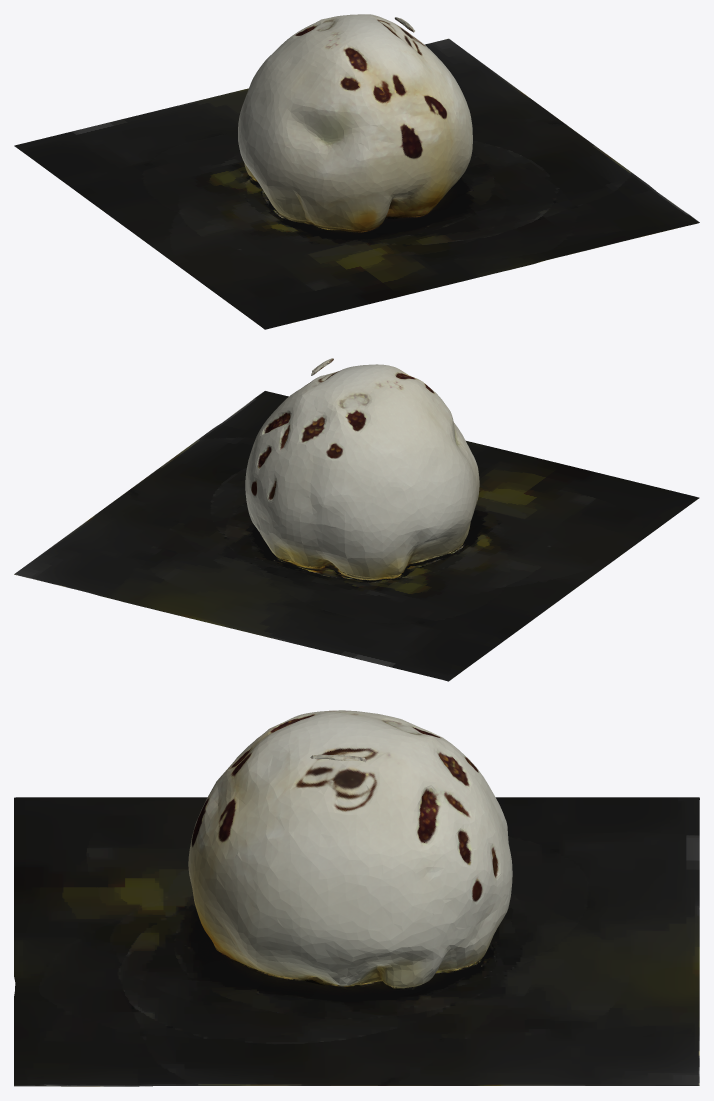
The model's file is sample_1788713900557.glb.
3 renders of one model, top to bottom at view 1: azimuth 30°, elevation 25°; view 2: azimuth 150°, elevation 25°; view 3: azimuth 270°, elevation 25°, orthographic. The views are drawn at different scales.
Visible parts, largest first — view 1: world; view 2: world; view 3: world.
Boxes of the visible parts, left/top/right/bottom form: world: left=14, top=14, right=699, bottom=329; world: left=14, top=358, right=699, bottom=681; world: left=14, top=710, right=699, bottom=1086.
Size of the model in its own units: 1 by 0.3644 by 1.
1 material, 1 textured.
